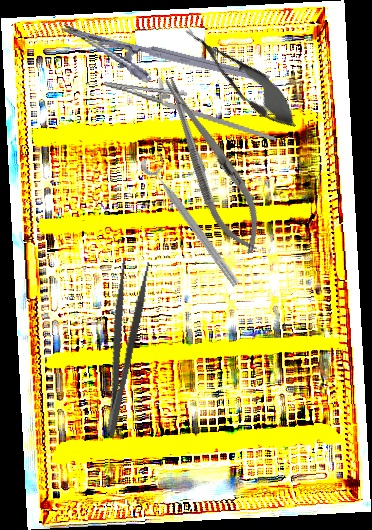Dressing Forceps: (88, 257, 153, 437)
Fixation Ring: (137, 148, 251, 290)
Micro Scissor: (175, 16, 308, 139)
Needle Holder: (148, 67, 275, 262), (53, 21, 271, 113), (98, 67, 284, 142)
